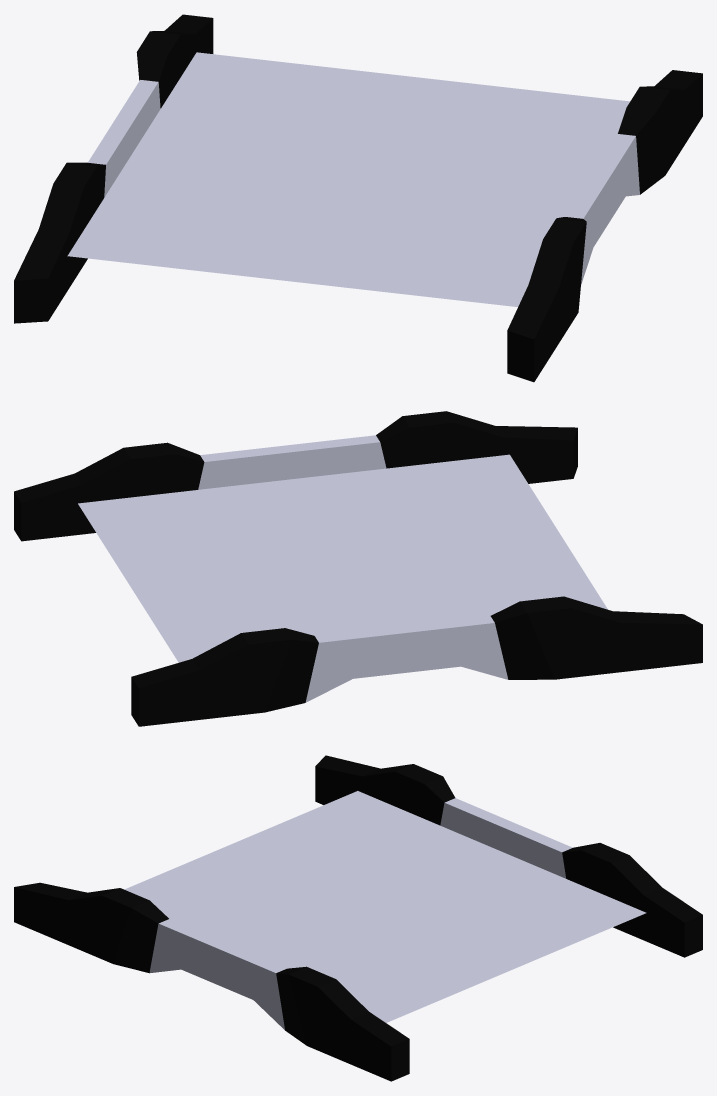
The model's file is Small Bridge.fbx.
The picture shows the model from 3 angles, top to bottom: view 1: azimuth 30°, elevation 25°; view 2: azimuth 150°, elevation 25°; view 3: azimuth 270°, elevation 25°; orthographic projection. The views are drawn at different scales.
Parts seen in each view (by area): view 1: SmallBridge_GEO; view 2: SmallBridge_GEO; view 3: SmallBridge_GEO.
Part boxes in pixels (x1,y1,x2,y2): SmallBridge_GEO: (14, 14, 702, 382); SmallBridge_GEO: (14, 411, 702, 726); SmallBridge_GEO: (14, 755, 702, 1081).
Size of the model in its own units: 684 by 69.86 by 684.
